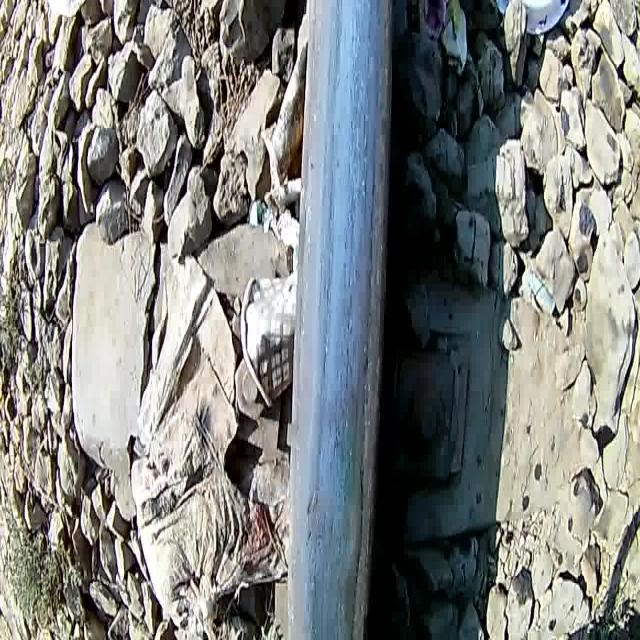Squats: (266, 0, 417, 640)
